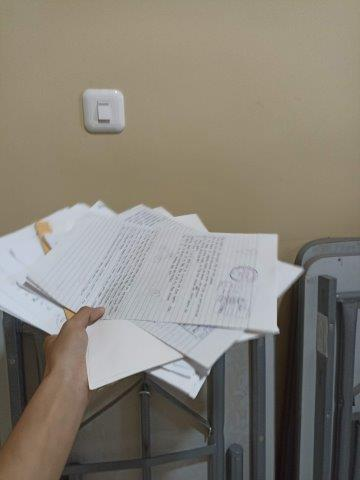kertas: (1, 197, 304, 397)
